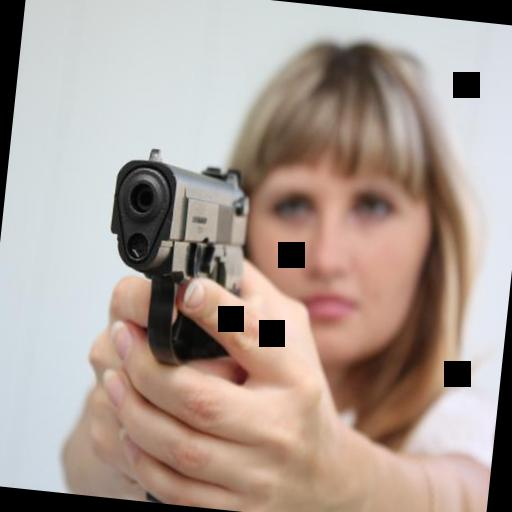Handgun: (93, 136, 285, 389)
